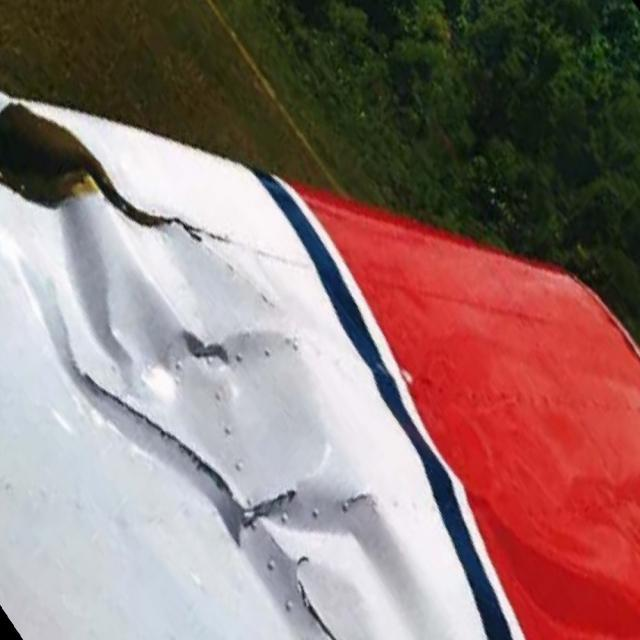crack: (86, 379, 235, 512), (288, 535, 358, 640), (240, 467, 291, 515)
